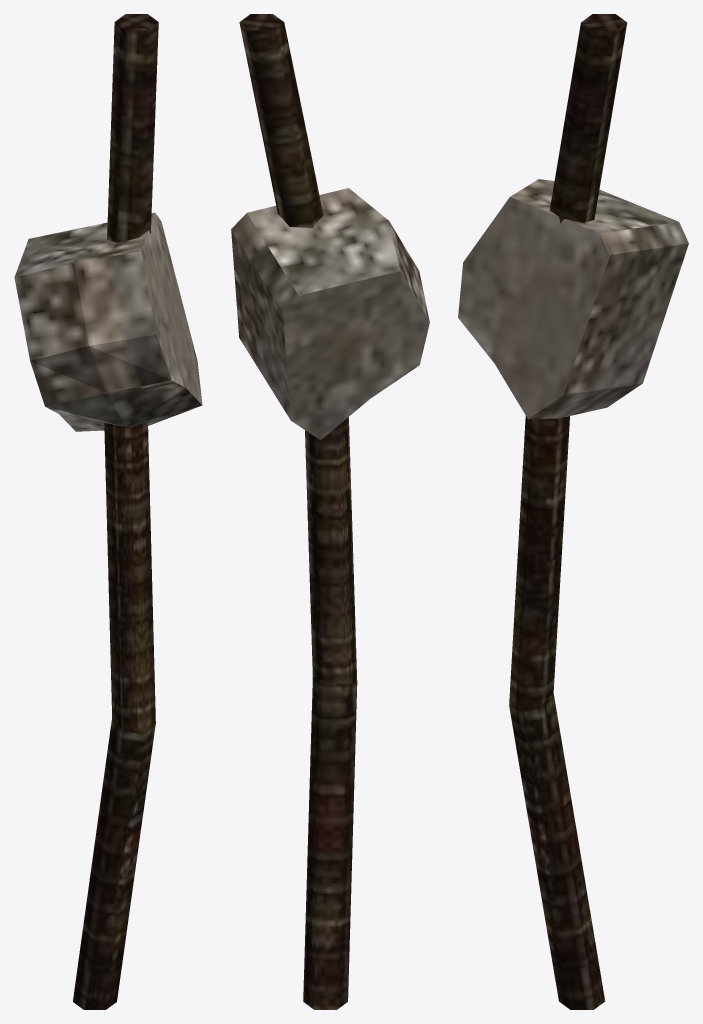
File: rebar002a_32.glb
The picture shows the model from 3 angles, left to right: view 1: azimuth 30°, elevation 25°; view 2: azimuth 150°, elevation 25°; view 3: azimuth 270°, elevation 25°; orthographic projection. The views are drawn at different scales.
Visible parts, largest first — view 1: 0_rebar_concrete001; view 2: 0_rebar_concrete001; view 3: 0_rebar_concrete001.
Part boxes in pixels (x1,y1,x2,y2): 0_rebar_concrete001: (14,14,202,1009); 0_rebar_concrete001: (231,14,429,1009); 0_rebar_concrete001: (458,14,688,1009).
Size of the model in its own units: 0.1575 by 0.8128 by 0.1692.
Materials: 1 (1 with a texture image).
